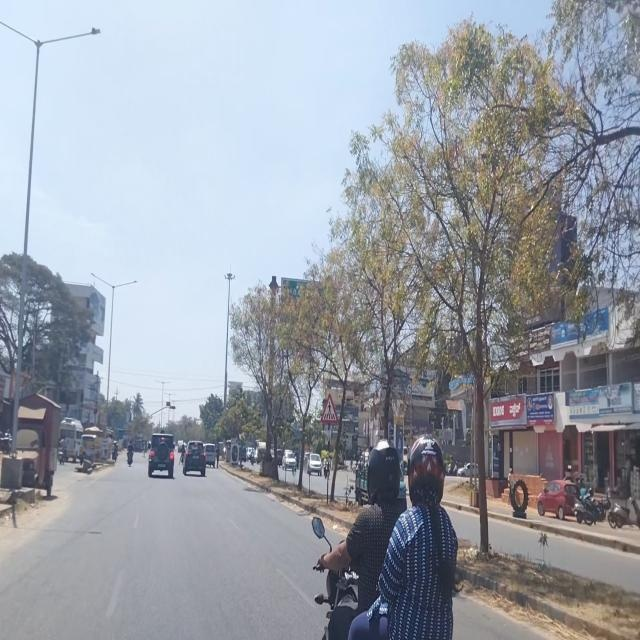bien_nguy_hiem: (320, 392, 339, 424)
